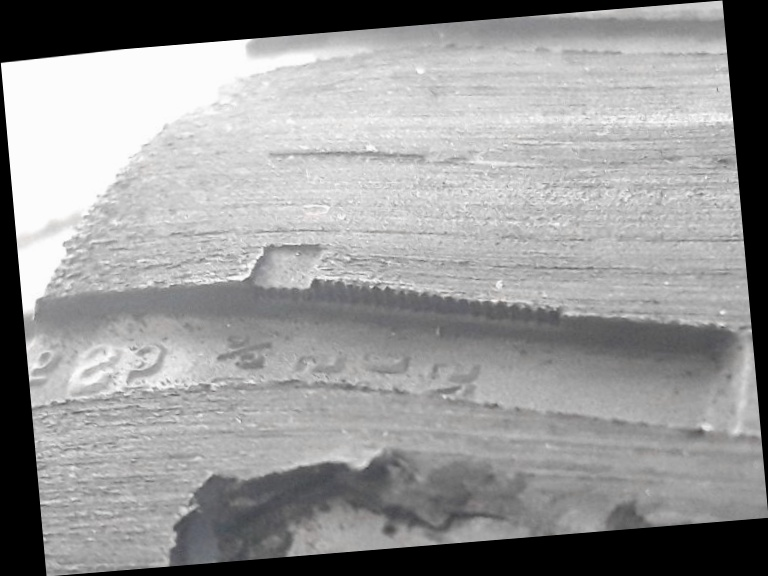temoin:0: (228, 227, 375, 339)
